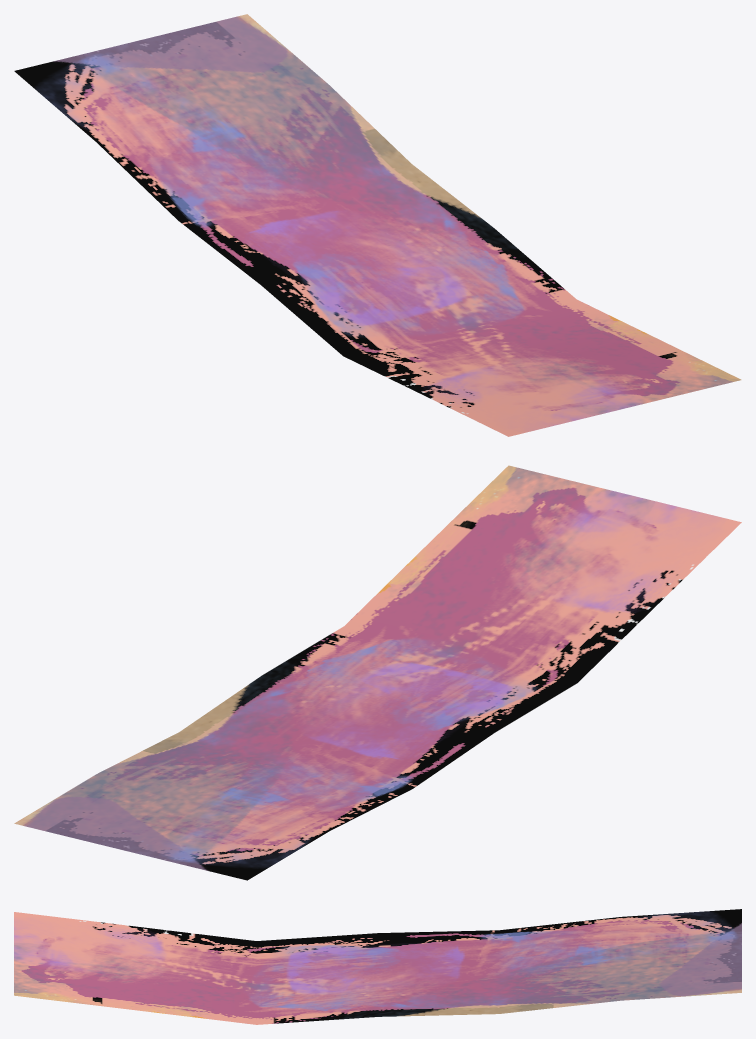
Rendered from S_BrushStroke_PinkLong.fbx.
3 views of the same model, one above another, from view 1: azimuth 30°, elevation 25°; view 2: azimuth 150°, elevation 25°; view 3: azimuth 270°, elevation 25° (orthographic). The views are drawn at different scales.
Parts seen in each view (by area): view 1: S_BrushStroke_PinkLong; view 2: S_BrushStroke_PinkLong; view 3: S_BrushStroke_PinkLong.
Boxes of the visible parts, x1,y1,x2,y2 form: S_BrushStroke_PinkLong: [14, 14, 741, 436]; S_BrushStroke_PinkLong: [14, 465, 741, 880]; S_BrushStroke_PinkLong: [14, 909, 741, 1024].
Bounding box in the file's own units: 0.8213 × 0.147 × 3.01.
